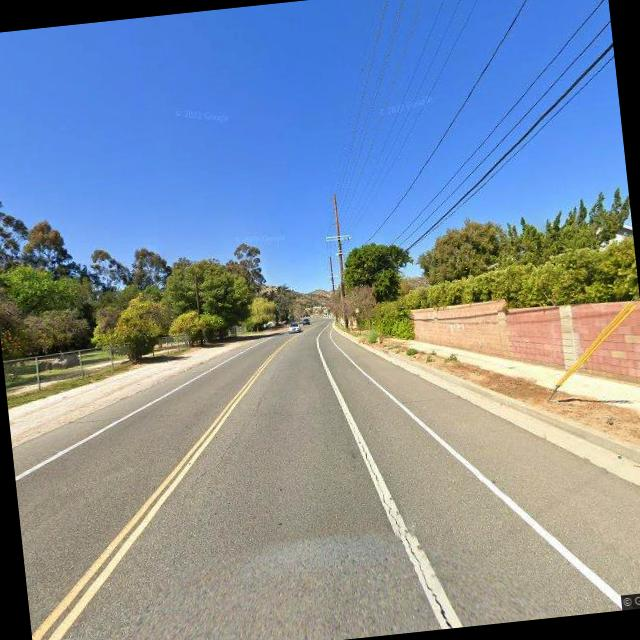pothole: (355, 412, 448, 626)
